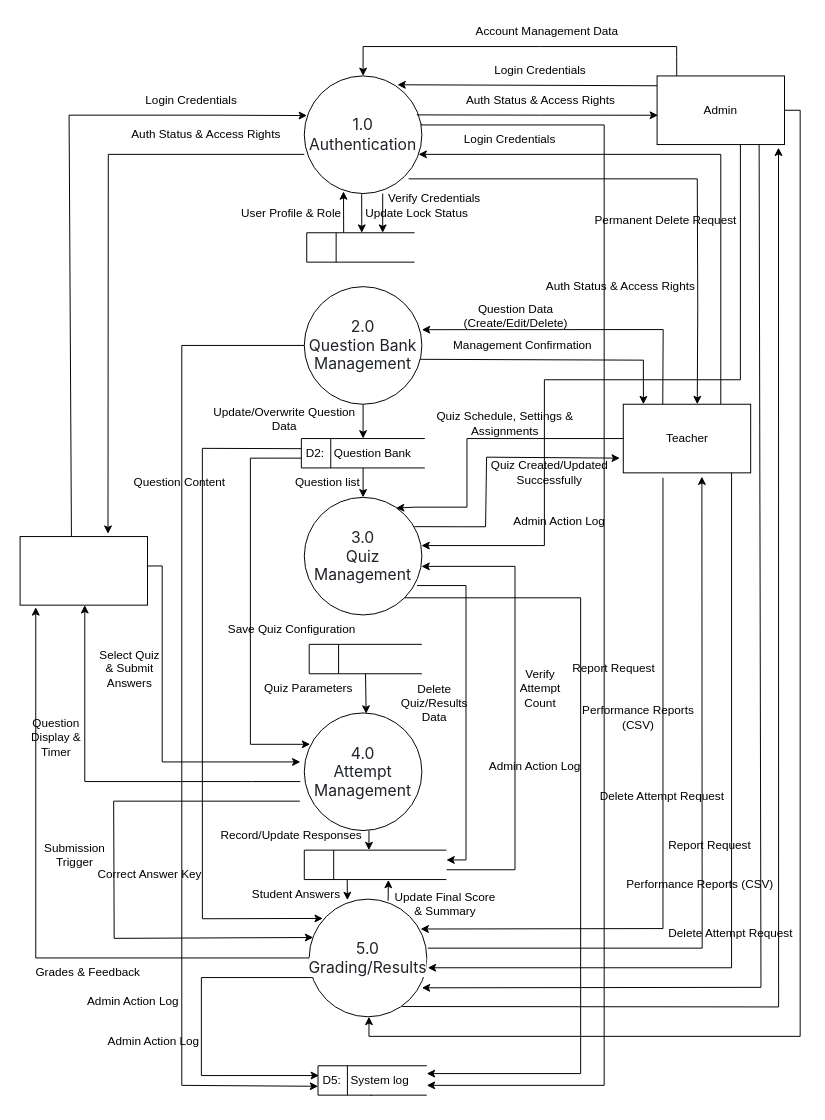
This 825x1120 diagram has some shape labels left out. The box of each missing label's shape, as (x1, y1, x2, y2) in pixels:
D1: Users Table: (306, 232, 415, 262)
D3: Quizzes Table: (308, 643, 422, 674)
D4: Attempts & Results: (303, 849, 446, 880)
Student: (19, 536, 147, 605)
